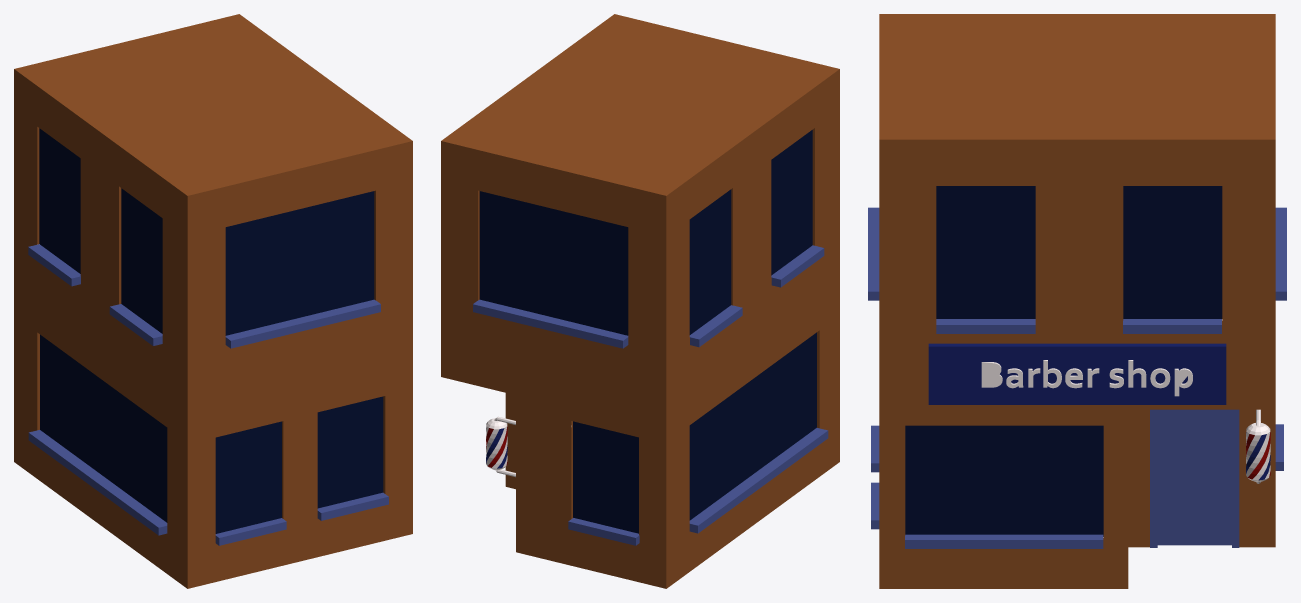
Rendered from barbershop.fbx.
3 renders of one model, left to right at view 1: azimuth 30°, elevation 25°; view 2: azimuth 150°, elevation 25°; view 3: azimuth 270°, elevation 25°, orthographic. The views are drawn at different scales.
Visible parts, largest first — view 1: Cube; view 2: Cube; view 3: Cube.
Part boxes in pixels (bbox=[...]): Cube: bbox=[14, 14, 412, 588]; Cube: bbox=[441, 14, 839, 588]; Cube: bbox=[868, 14, 1286, 588].
Size of the model in its own units: 1293 by 2000 by 1689.
